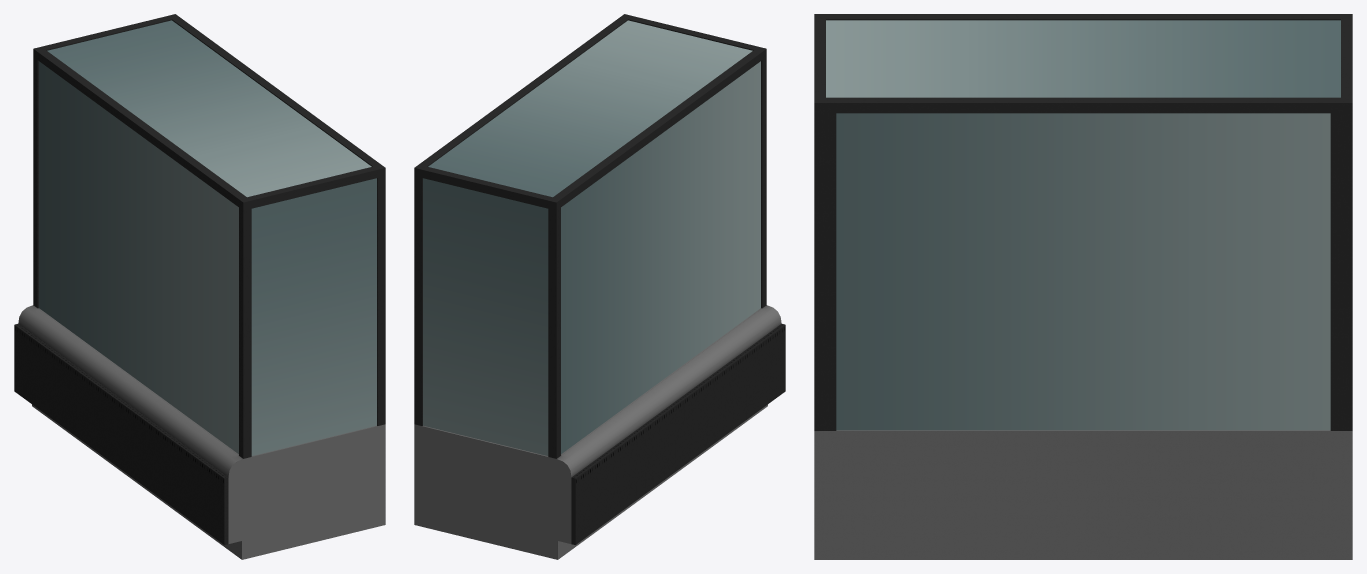
File: sp_show_case.FBX
3 renders of one model, left to right at view 1: azimuth 30°, elevation 25°; view 2: azimuth 150°, elevation 25°; view 3: azimuth 270°, elevation 25°, orthographic. The views are drawn at different scales.
Parts seen in each view (by area): view 1: sp_show_case; view 2: sp_show_case; view 3: sp_show_case.
Part boxes in pixels (box(x1,y1,x2,y2)): sp_show_case: box(14, 14, 385, 559); sp_show_case: box(414, 14, 785, 559); sp_show_case: box(814, 14, 1352, 559).
Bounding box in the file's own units: 24.41 × 55.12 × 51.65.
